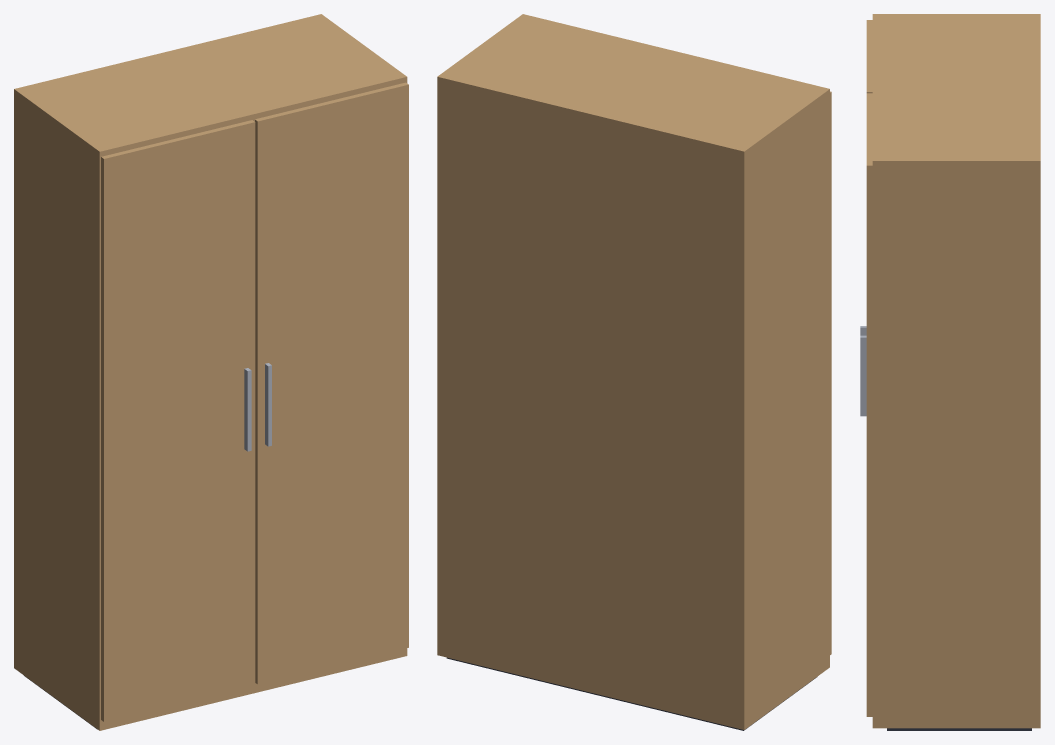
Rendered from hsp-004.glb.
The picture shows the model from 3 angles, left to right: view 1: azimuth 30°, elevation 25°; view 2: azimuth 150°, elevation 25°; view 3: azimuth 270°, elevation 25°; orthographic projection. The views are drawn at different scales.
Parts seen in each view (by area): view 1: oak, steel; view 2: oak; view 3: oak, steel, dark_steel.
Boxes of the visible parts, x1=… form: oak: x1=14, y1=14, x2=408, y2=730; steel: x1=244, y1=363, x2=271, y2=451; oak: x1=437, y1=14, x2=831, y2=729; oak: x1=866, y1=14, x2=1040, y2=728; steel: x1=860, y1=326, x2=866, y2=416; dark_steel: x1=887, y1=728, x2=1031, y2=730.
Size of the model in its own units: 1.2 by 2.18 by 0.6225.
